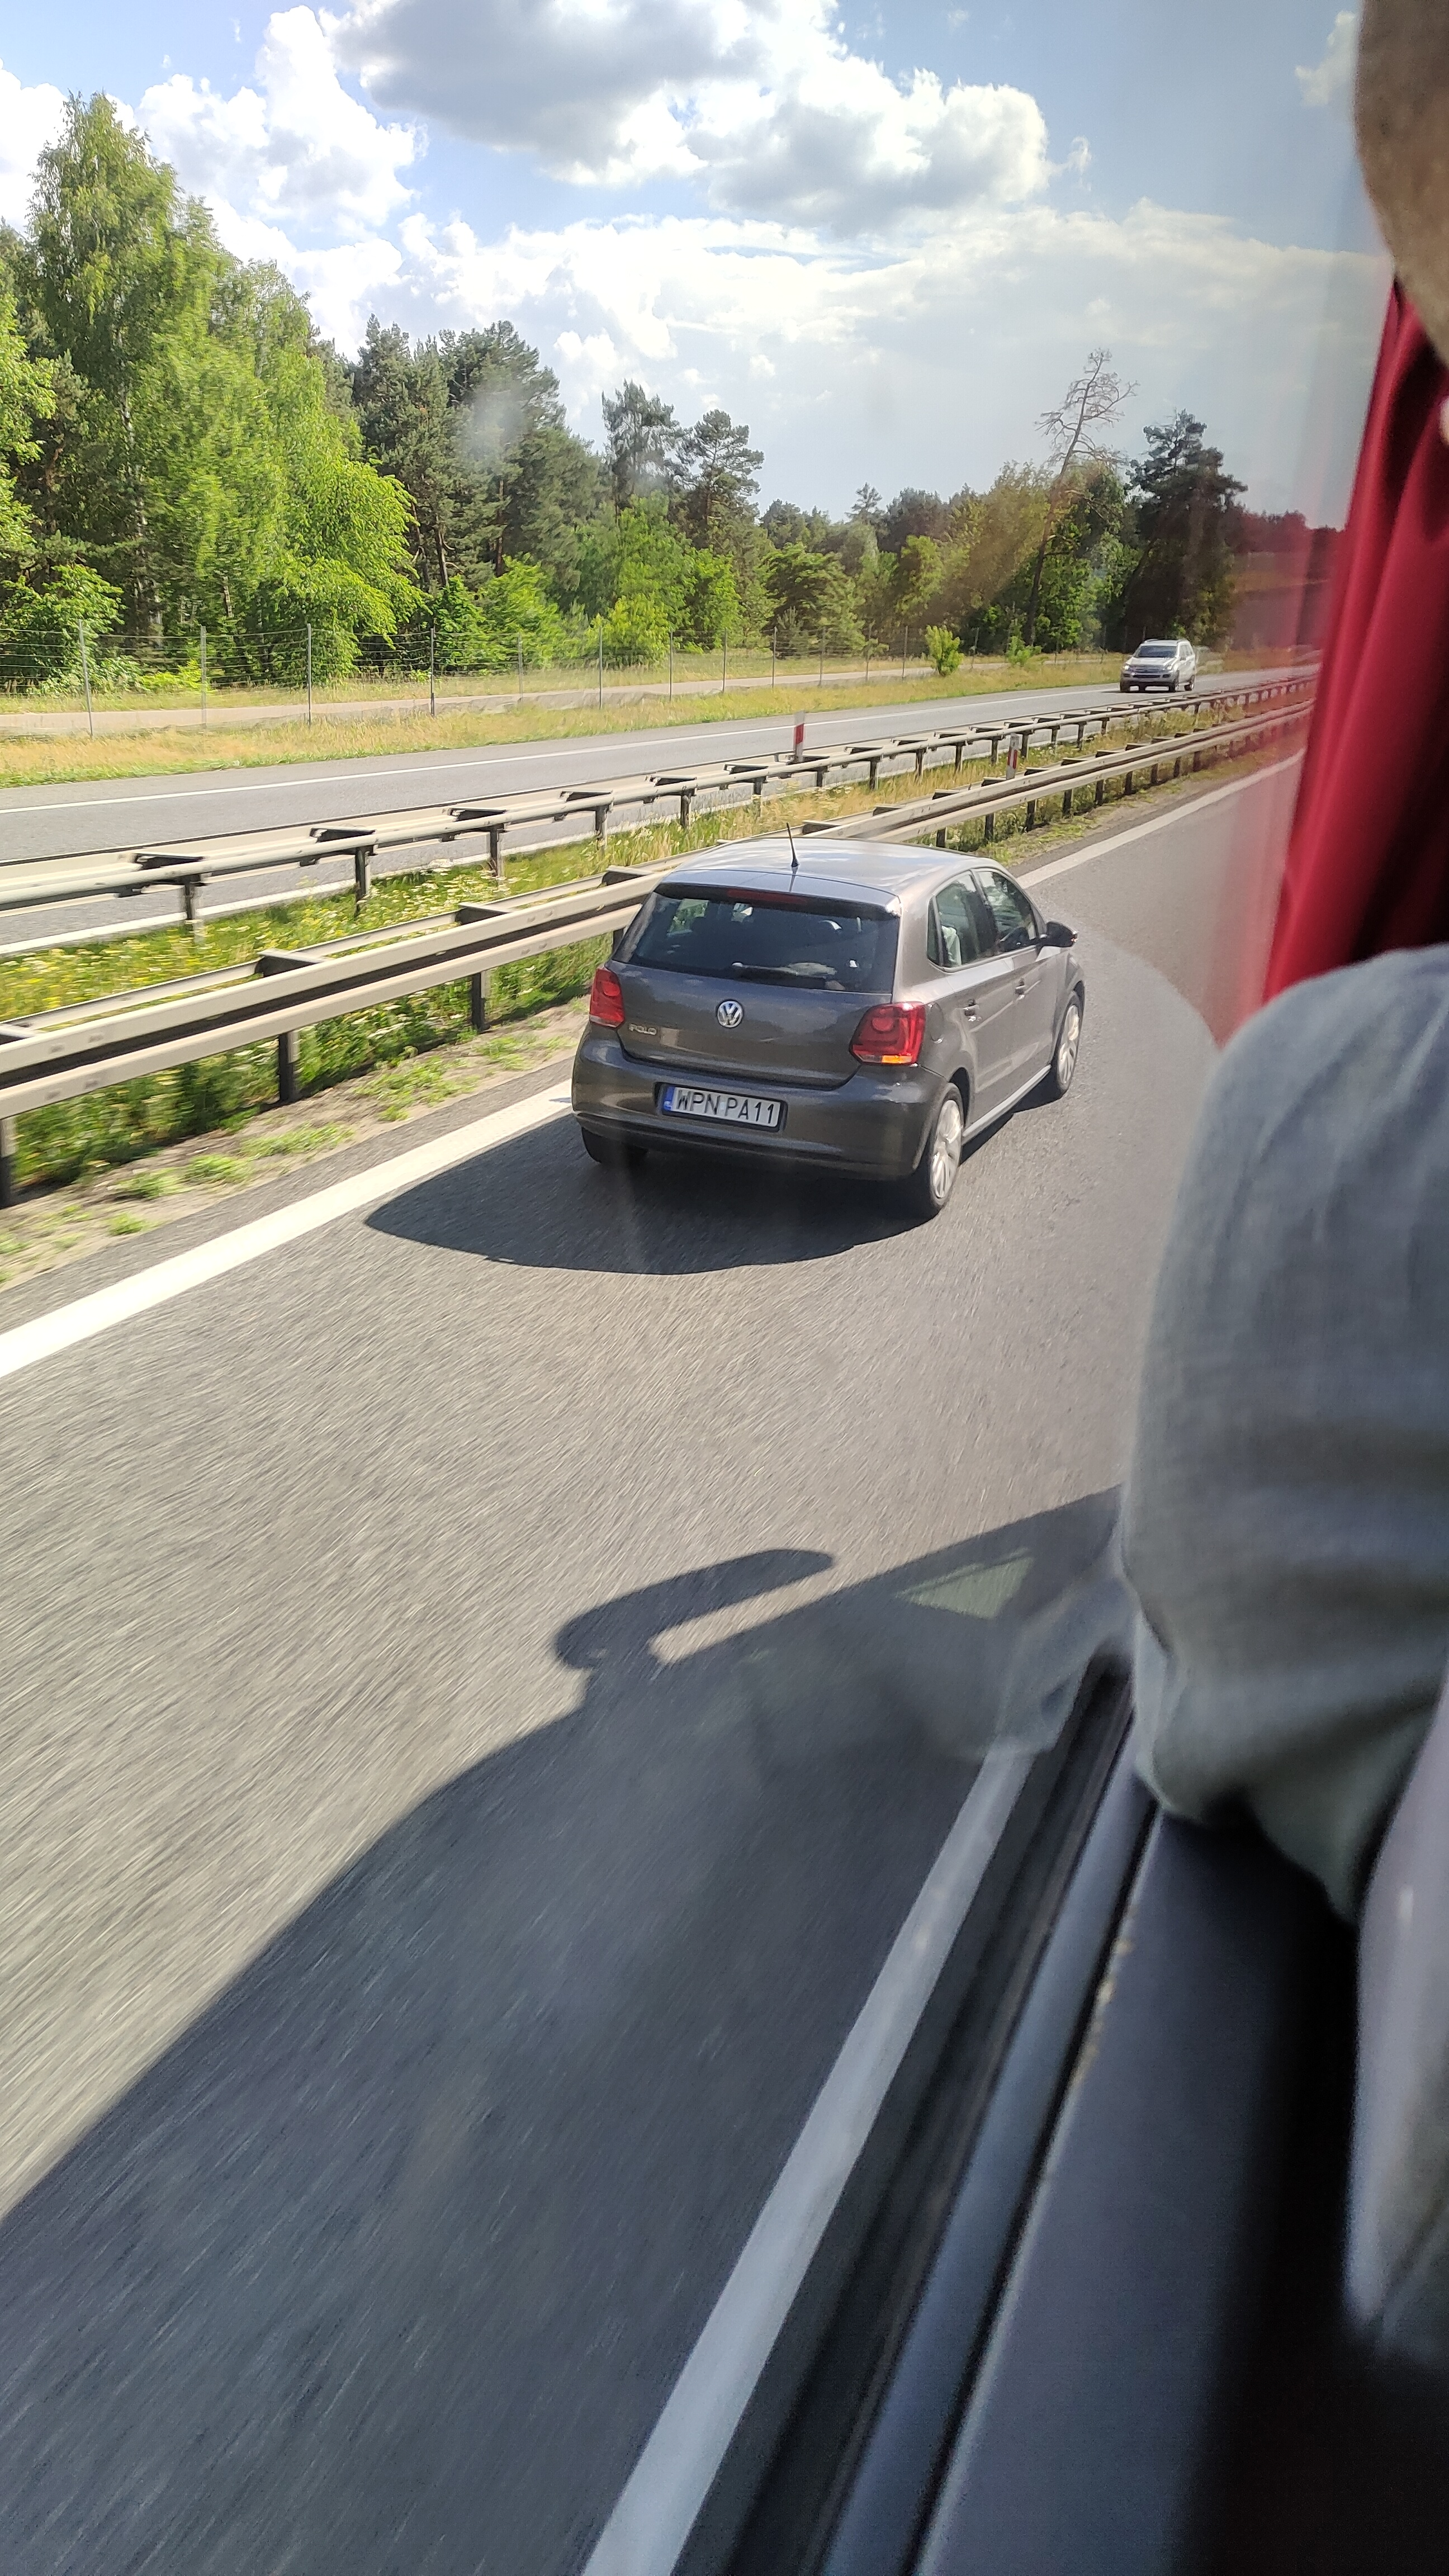number_plate: (662, 1085, 783, 1130)
